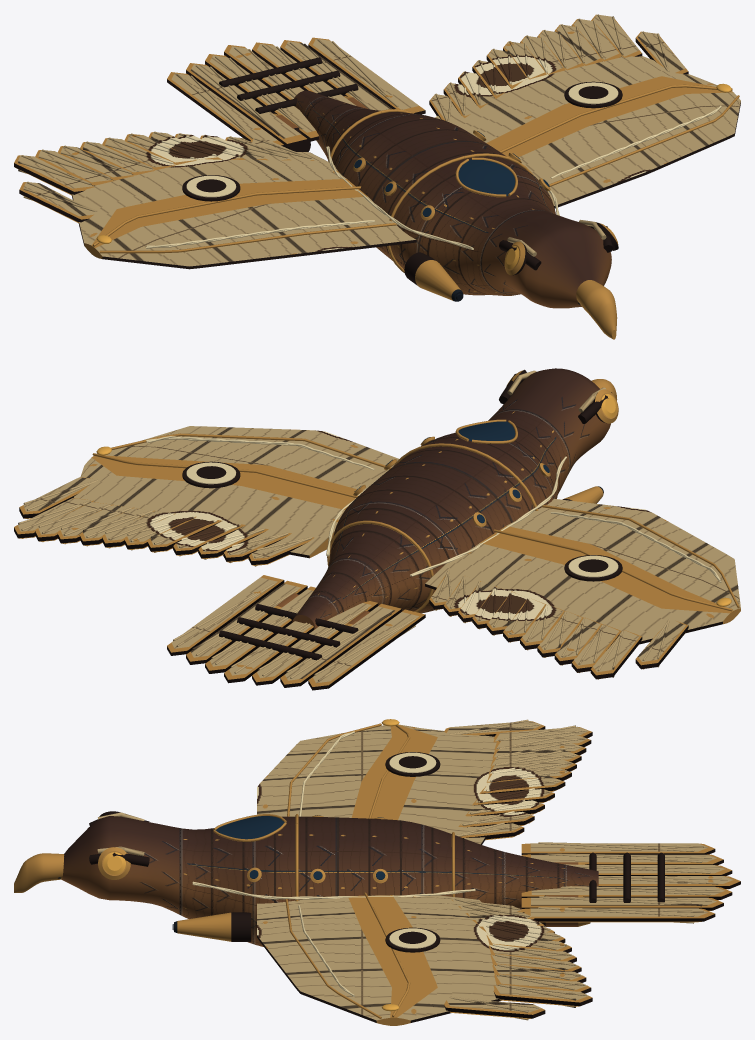
3 views of the same model, one above another, from view 1: azimuth 30°, elevation 25°; view 2: azimuth 150°, elevation 25°; view 3: azimuth 270°, elevation 25° (orthographic). The views are drawn at different scales.
Visible parts, largest first — view 1: goshawk_hull; view 2: goshawk_hull; view 3: goshawk_hull.
Part boxes in pixels (bbox=[...]): goshawk_hull: bbox=[14, 14, 740, 339]; goshawk_hull: bbox=[14, 368, 740, 690]; goshawk_hull: bbox=[14, 719, 740, 1025].
Size of the model in its own units: 40.23 by 7.68 by 42.
1 material, 1 textured.
